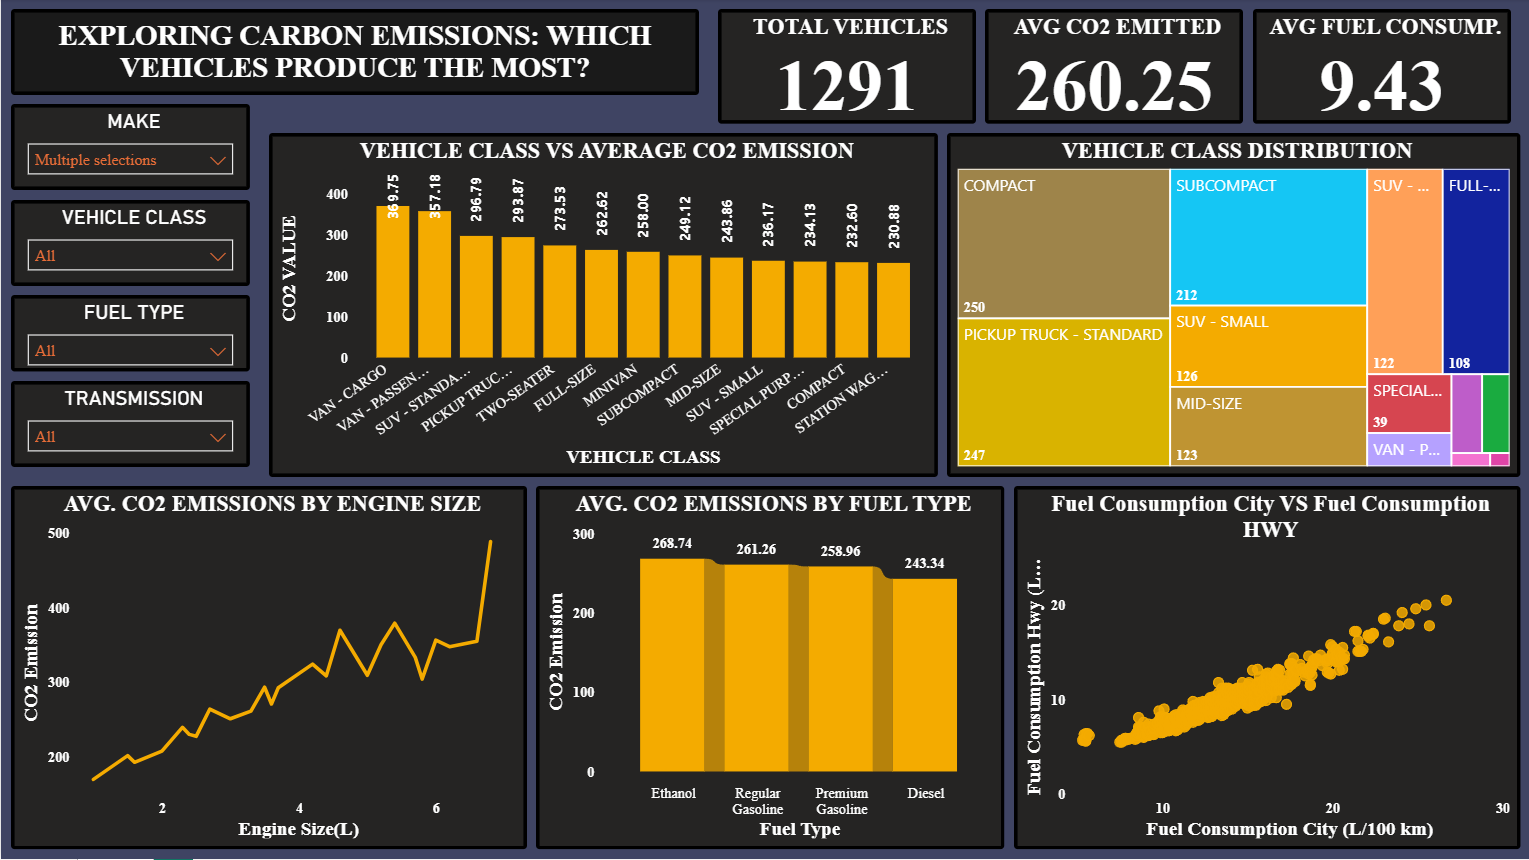

What the dashboard file says about the page in this screenshot:
{"tool":"powerbi","page":{"name":"Page 1","canvas":[1280,720],"ordinal":0},"visuals":[{"type":"textbox","box":[8,8,576,72],"z":0},{"type":"slicer","title":"MAKE","fields":{"Values":["CO2 emissions data.Make"]},"box":[8,88,200,72],"z":1000},{"type":"slicer","title":"FUEL TYPE","fields":{"Values":["CO2 emissions data.Fuel Type"]},"box":[8,248,200,64],"z":2000},{"type":"slicer","title":"VEHICLE CLASS","fields":{"Values":["CO2 emissions data.Vehicle Class"]},"box":[8,168,200,72],"z":3000},{"type":"slicer","title":"TRANSMISSION","fields":{"Values":["CO2 emissions data.Transmission"]},"box":[8,320,200,72],"z":4000},{"type":"card","title":"TOTAL VEHICLES","fields":{"Values":["CountNonNull(CO2 emissions data.Model)"]},"box":[600,8,216,96],"z":5000},{"type":"card","title":"AVG CO2 EMITTED","fields":{"Values":["Avg(CO2 emissions data.CO2 Emissions(g/km))"]},"box":[824,8,216,96],"z":6000},{"type":"card","title":"AVG FUEL CONSUMP.","fields":{"Values":["Avg(CO2 emissions data.Fuel Consumption Hwy (L/100 km))"]},"box":[1048,8,216,96],"z":7000},{"type":"clusteredColumnChart","title":"VEHICLE CLASS VS AVERAGE CO2 EMISSION","fields":{"Category":["CO2 emissions data.Vehicle Class"],"Y":["Avg(CO2 emissions data.CO2 Emissions(g/km))"]},"box":[224,112,560,288],"z":7001},{"type":"scatterChart","title":"Fuel Consumption City VS Fuel Consumption HWY","fields":{"X":["CO2 emissions data.Fuel Consumption City (L/100 km)"],"Y":["CO2 emissions data.Fuel Consumption Hwy (L/100 km)"]},"box":[848,408,424,304],"z":7002},{"type":"lineChart","title":"AVG. CO2 EMISSIONS BY ENGINE SIZE","fields":{"Category":["CO2 emissions data.Engine Size(L)"],"Y":["Avg(CO2 emissions data.CO2 Emissions(g/km))"]},"box":[8,408,432,304],"z":7003},{"type":"columnChart","title":"AVG. CO2 EMISSIONS BY FUEL TYPE","fields":{"Category":["CO2 emissions data.Fuel Type"],"Y":["Avg(CO2 emissions data.CO2 Emissions(g/km))"]},"box":[448,408,392,304],"z":7004},{"type":"treemap","title":"VEHICLE CLASS DISTRIBUTION","fields":{"Group":["CO2 emissions data.Vehicle Class"],"Values":["CountNonNull(CO2 emissions data.Vehicle Class)"]},"box":[792,112,480,288],"z":7005}]}

Visuals, with their boxes in screenshot pixels (x1, y1, x2, y2), scaled from the page's 1280x720 canvas onto the 1529x860 screenshot:
textbox: region(10, 10, 698, 96)
"MAKE" slicer: region(10, 105, 248, 191)
"FUEL TYPE" slicer: region(10, 296, 248, 373)
"VEHICLE CLASS" slicer: region(10, 201, 248, 287)
"TRANSMISSION" slicer: region(10, 382, 248, 468)
"TOTAL VEHICLES" card: region(717, 10, 975, 124)
"AVG CO2 EMITTED" card: region(984, 10, 1242, 124)
"AVG FUEL CONSUMP." card: region(1252, 10, 1510, 124)
"VEHICLE CLASS VS AVERAGE CO2 EMISSION" clusteredColumnChart: region(268, 134, 937, 478)
"Fuel Consumption City VS Fuel Consumption HWY" scatterChart: region(1013, 487, 1519, 850)
"AVG. CO2 EMISSIONS BY ENGINE SIZE" lineChart: region(10, 487, 526, 850)
"AVG. CO2 EMISSIONS BY FUEL TYPE" columnChart: region(535, 487, 1003, 850)
"VEHICLE CLASS DISTRIBUTION" treemap: region(946, 134, 1519, 478)
